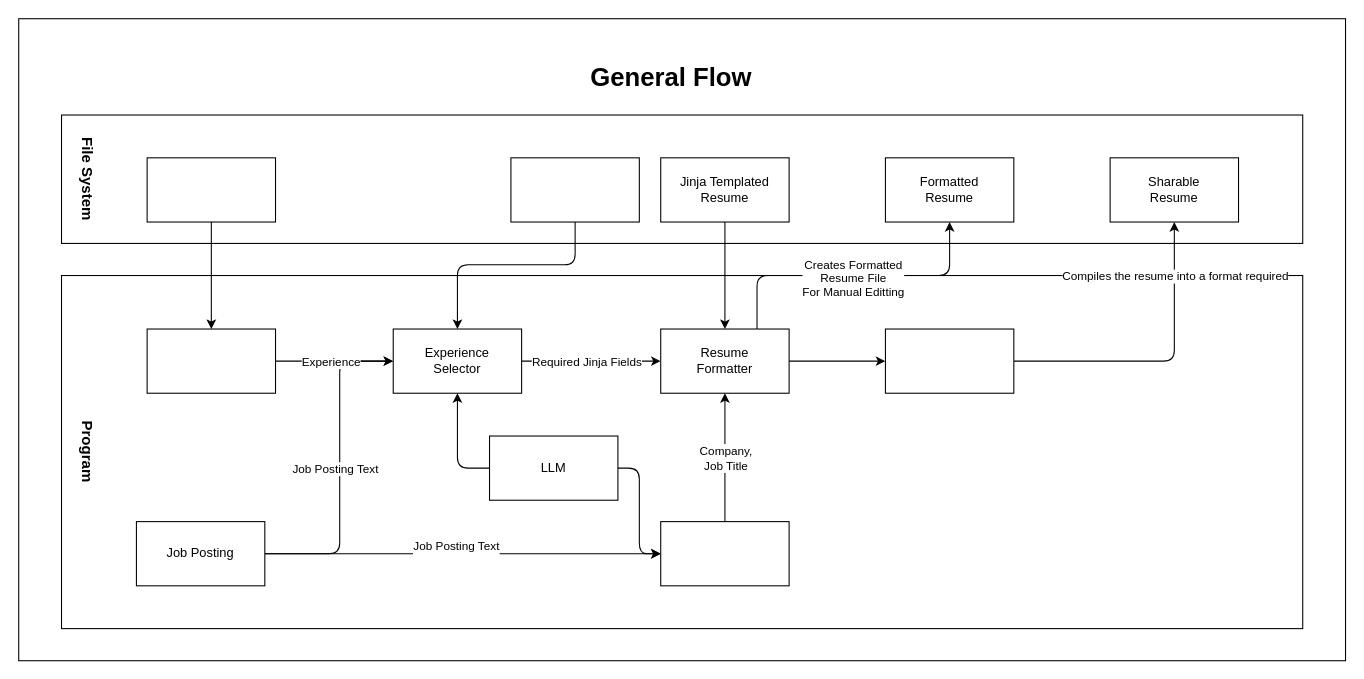
Some shapes in this 1364 by 679 pixel diagram are drawn without their labels. Each missing label, with the centre of its shape:
"Experience Loader" belongs at (211,360).
"Experience YAML" belongs at (211,189).
"Job Details Extractor" belongs at (724,553).
"Required Jinja Fields for Resume" belongs at (574,189).
"Resume Compiler" belongs at (949,360).
